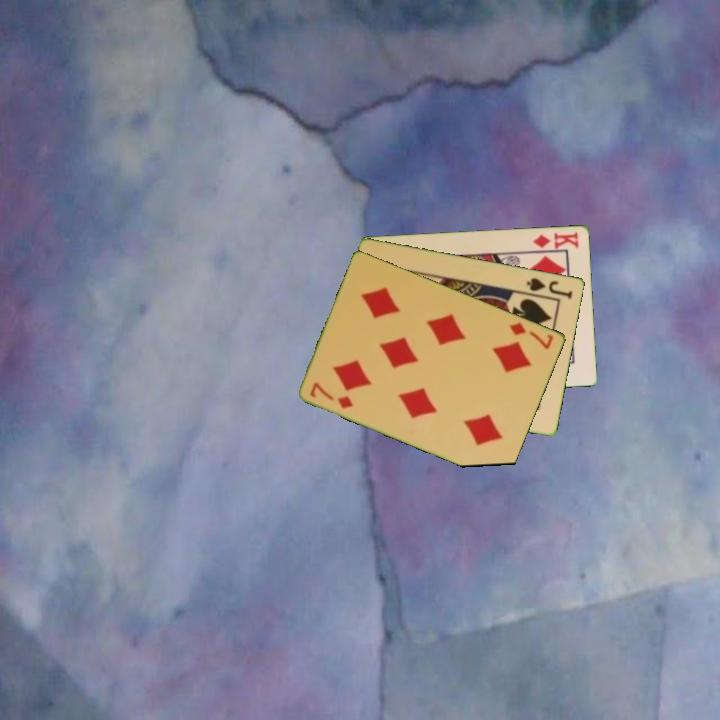7d: (506, 318, 557, 352), (307, 379, 357, 411)
Js: (523, 274, 576, 302)
Kd: (530, 228, 582, 252)
